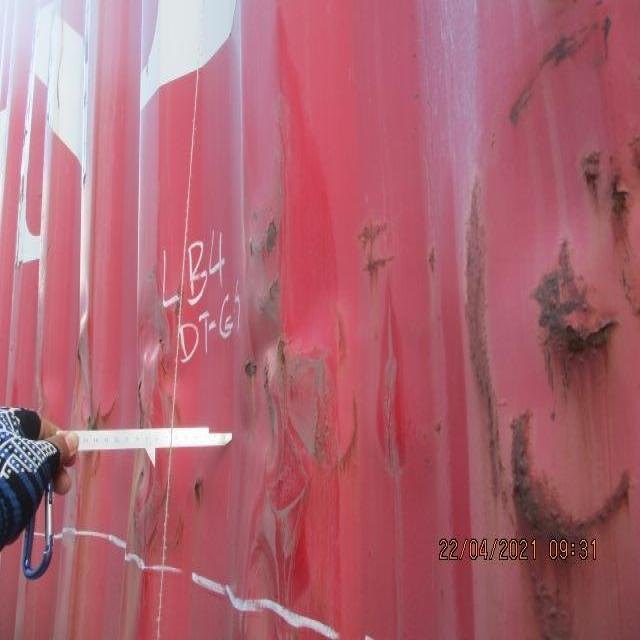dent: (35, 235, 404, 535)
